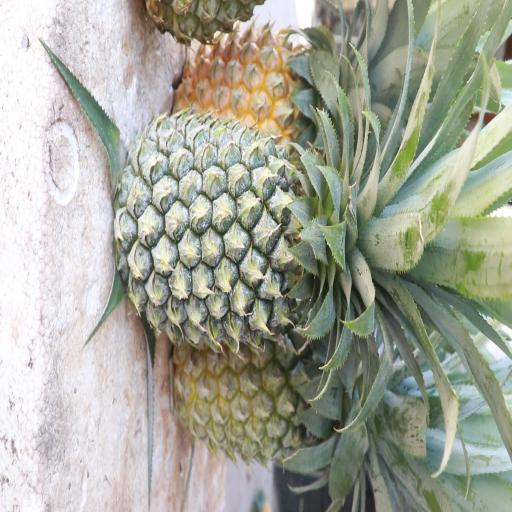------------------------------: (170, 331, 360, 473)
Pineapple - v8 v1: (177, 19, 334, 134)
